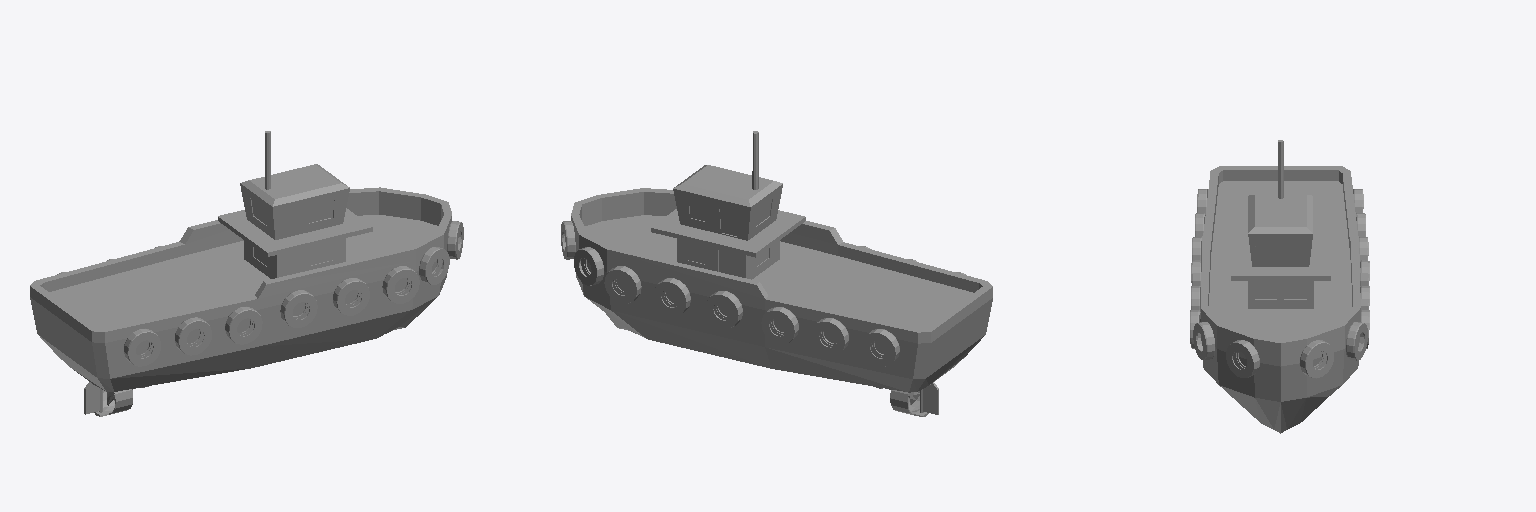
Rendered from boat1.obj.
3 renders of one model, left to right at view 1: azimuth 30°, elevation 25°; view 2: azimuth 150°, elevation 25°; view 3: azimuth 270°, elevation 25°, orthographic.
Parts seen in each view (by area): view 1: Boat_default, Tires_default; view 2: Boat_default, Tires_default; view 3: Boat_default, Tires_default.
Part boxes in pixels (x1,y1,x2,y2): Boat_default: (30,131,451,416); Tires_default: (57,221,463,366); Boat_default: (571,131,992,416); Tires_default: (561,221,965,366); Boat_default: (1201,140,1360,433); Tires_default: (1190,189,1369,378).
Bounding box in the file's own units: 6.63 × 3.94 × 2.65.